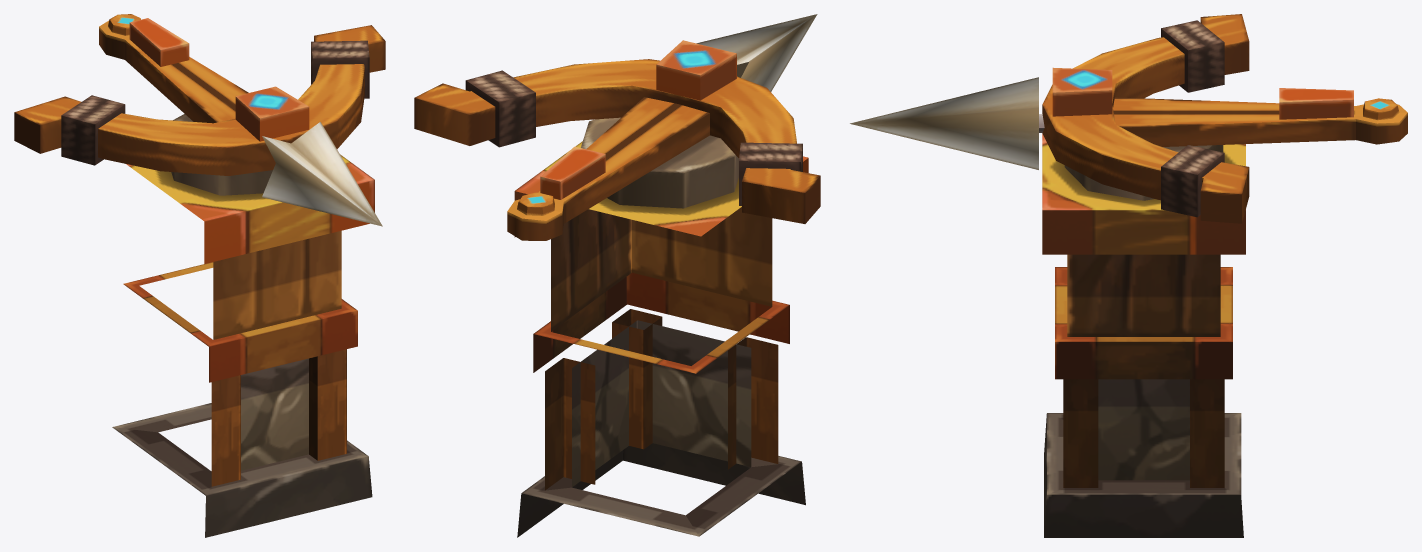
File: B_Archertower01.fbx
3 renders of one model, left to right at view 1: azimuth 30°, elevation 25°; view 2: azimuth 150°, elevation 25°; view 3: azimuth 270°, elevation 25°, orthographic. The views are drawn at different scales.
Parts seen in each view (by area): view 1: B_Archertower01_01, B_Archertower01_02, B_Archertower01_04, B_Archertower01_03; view 2: B_Archertower01_01, B_Archertower01_02, B_Archertower01_04, B_Archertower01_03; view 3: B_Archertower01_01, B_Archertower01_02, B_Archertower01_04, B_Archertower01_03.
Part boxes in pixels (x1,y1,x2,y2): B_Archertower01_01: (112, 154, 374, 537); B_Archertower01_02: (14, 14, 385, 195); B_Archertower01_04: (262, 122, 382, 226); B_Archertower01_03: (129, 18, 189, 66); B_Archertower01_01: (514, 141, 808, 537); B_Archertower01_02: (414, 40, 820, 240); B_Archertower01_04: (696, 14, 817, 91); B_Archertower01_03: (540, 146, 605, 199); B_Archertower01_01: (1042, 134, 1245, 537); B_Archertower01_02: (1042, 14, 1407, 223); B_Archertower01_04: (850, 77, 1044, 169); B_Archertower01_03: (1279, 88, 1353, 119).
Bounding box in the file's own units: 3.59 × 3.86 × 4.7.
1 material, 1 textured.
